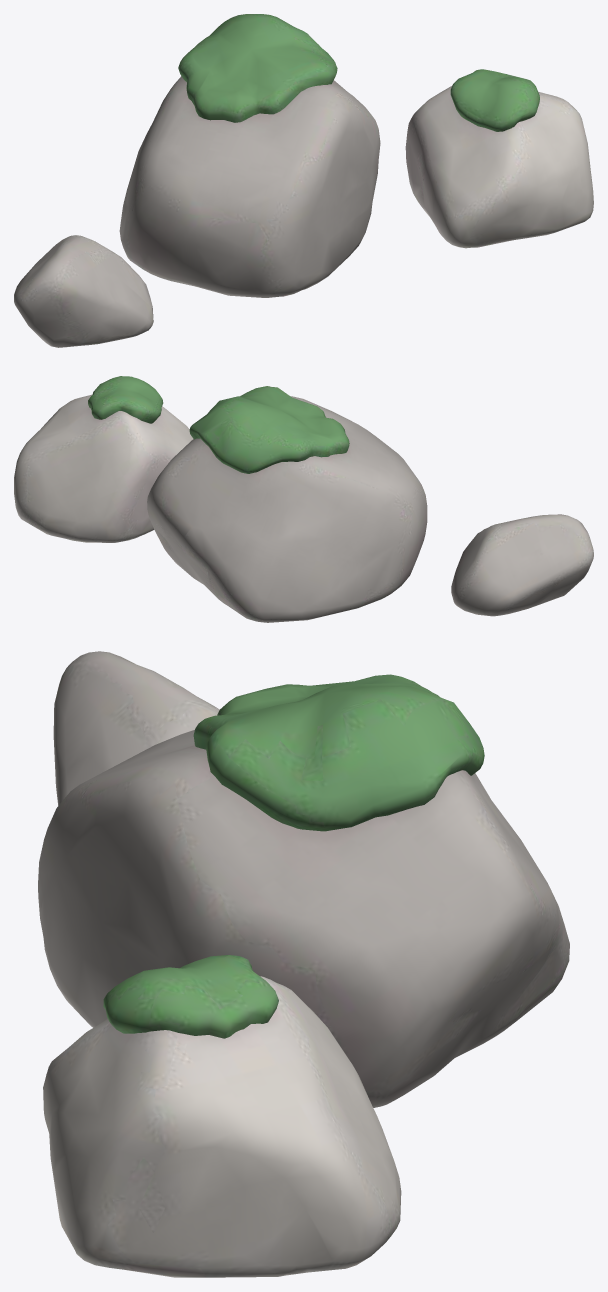
The model's file is boulder-rock-set.glb.
3 renders of one model, top to bottom at view 1: azimuth 30°, elevation 25°; view 2: azimuth 150°, elevation 25°; view 3: azimuth 270°, elevation 25°, orthographic. The views are drawn at different scales.
Parts seen in each view (by area): view 1: boulder-rock-set_body; view 2: boulder-rock-set_body; view 3: boulder-rock-set_body.
Part boxes in pixels (left/top/right/bottom): boulder-rock-set_body: left=14, top=14, right=593, bottom=347; boulder-rock-set_body: left=14, top=376, right=593, bottom=622; boulder-rock-set_body: left=38, top=651, right=569, bottom=1277.
Bounding box in the file's own units: 3.42 × 1.14 × 1.5.
1 material, 1 textured.
